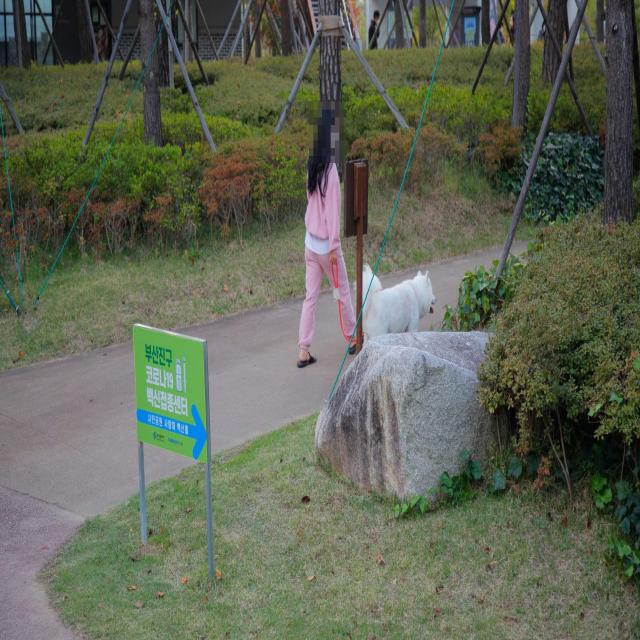Leashed_Dog: (321, 242, 437, 354)
